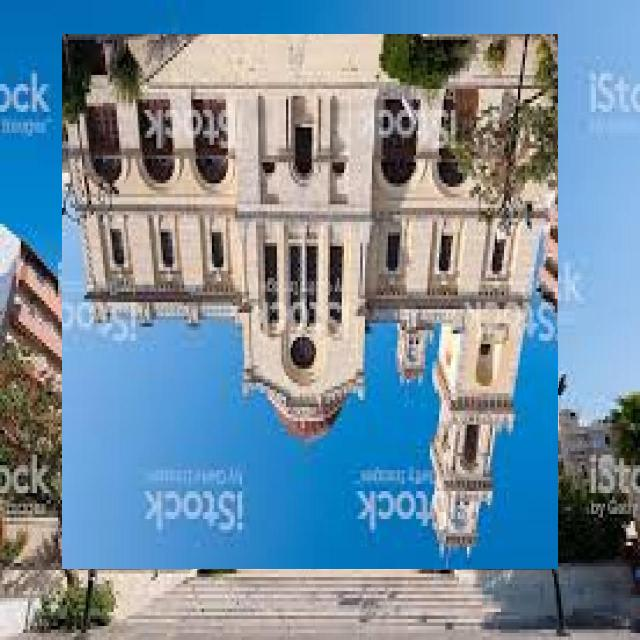Agios Minas: (63, 35, 559, 570)
